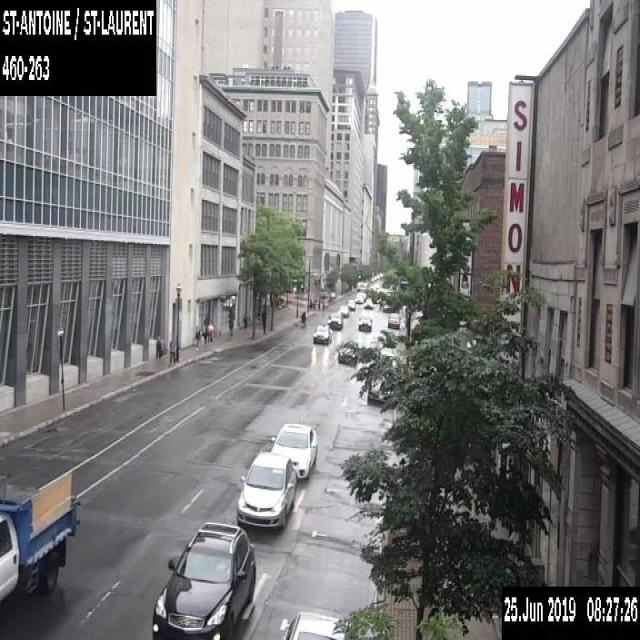pedestrian: (155, 334, 163, 362), (168, 338, 176, 366), (201, 324, 207, 349), (194, 324, 200, 349), (207, 319, 213, 343), (242, 309, 248, 329), (228, 316, 233, 336), (302, 310, 306, 323), (300, 312, 304, 325), (309, 297, 311, 308)
vehicle: (151, 521, 256, 639), (0, 469, 82, 616), (236, 450, 297, 530), (270, 422, 316, 479), (282, 606, 345, 638), (368, 375, 393, 401), (338, 338, 358, 363), (313, 323, 332, 344), (358, 313, 372, 331), (327, 312, 342, 328), (355, 280, 368, 298), (387, 312, 399, 328), (382, 299, 393, 311), (338, 304, 348, 316), (362, 298, 372, 308), (354, 293, 364, 302), (347, 298, 354, 309)
